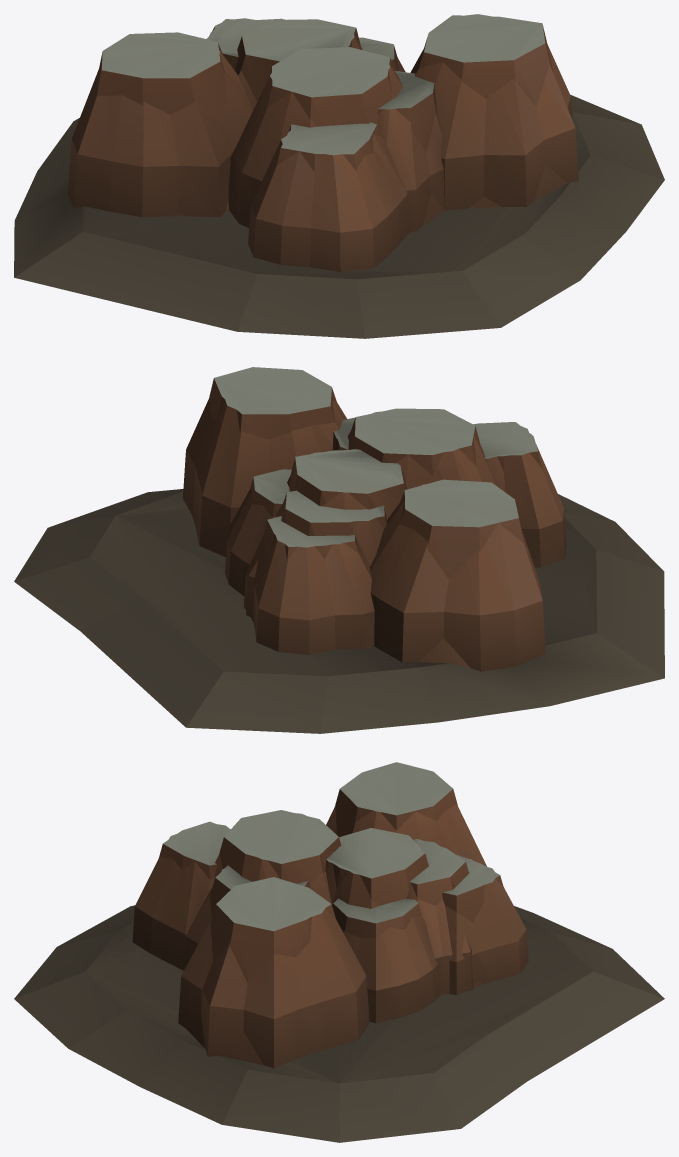
File: neutral_ore_field_stage_03.glb
3 renders of one model, top to bottom at view 1: azimuth 30°, elevation 25°; view 2: azimuth 150°, elevation 25°; view 3: azimuth 270°, elevation 25°, orthographic. The views are drawn at different scales.
Parts seen in each view (by area): view 1: body (×3); view 2: body (×3); view 3: body (×3).
Boxes of the visible parts, x1,y1,x2,y2 form: body (×3): (14, 14, 664, 338); body (×3): (14, 367, 664, 733); body (×3): (14, 762, 664, 1142).
Size of the model in its own units: 2.7 by 0.656 by 2.58.
